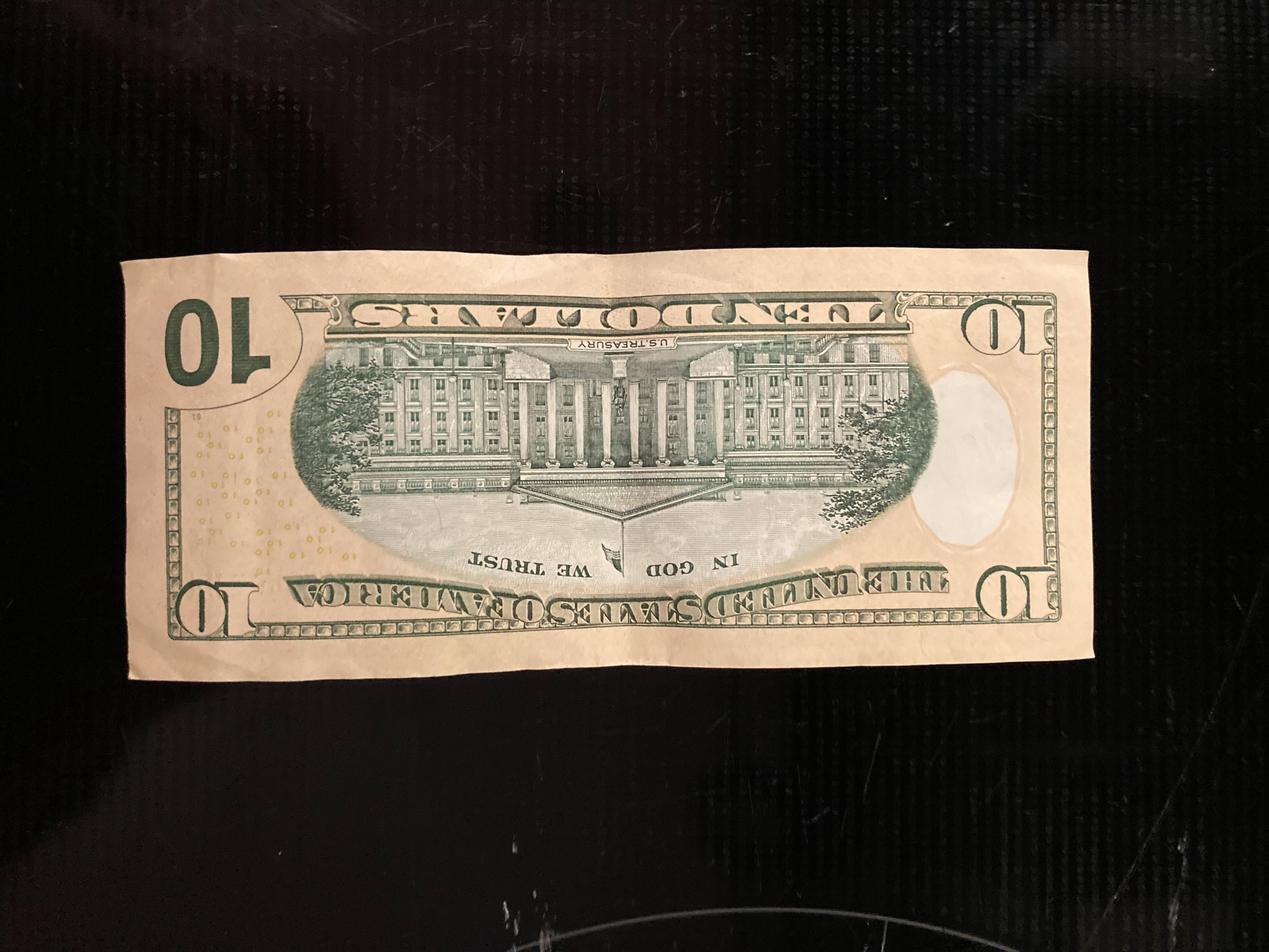ten-back: (122, 243, 1098, 683)
